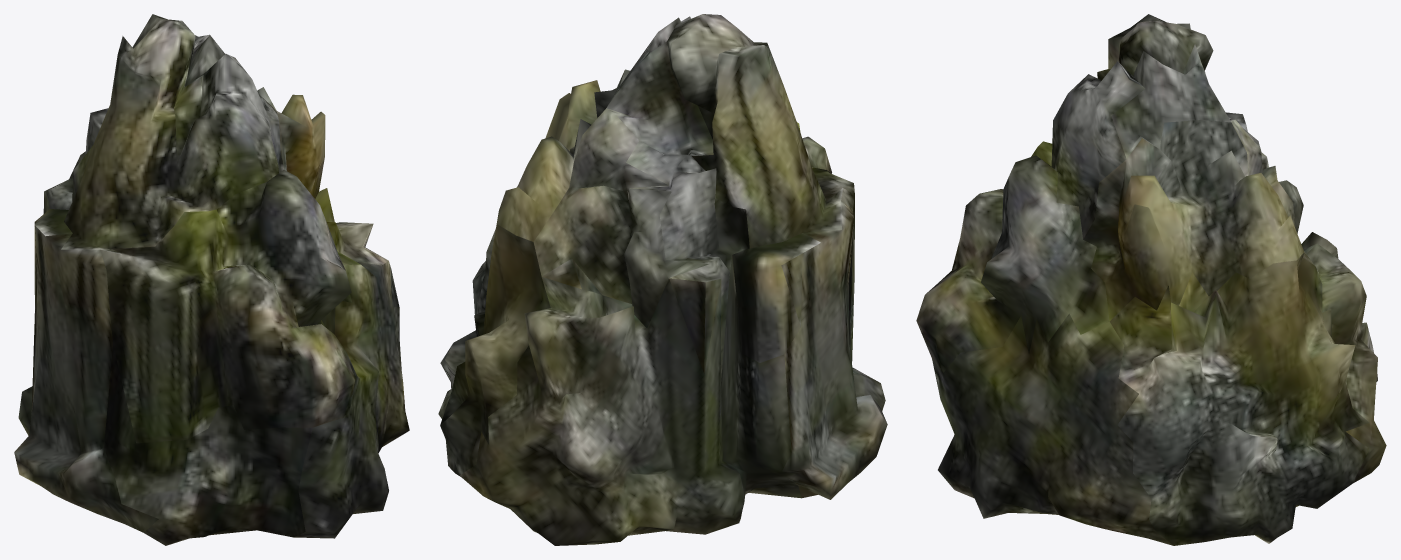
File: crystal-ethics_02.glb
3 views of the same model, side by side, from view 1: azimuth 30°, elevation 25°; view 2: azimuth 150°, elevation 25°; view 3: azimuth 270°, elevation 25° (orthographic). The views are drawn at different scales.
Visible parts, largest first — view 1: mesh_node.002; view 2: mesh_node.002; view 3: mesh_node.002.
Boxes of the visible parts, bbox=[...] form: mesh_node.002: bbox=[14, 14, 409, 545]; mesh_node.002: bbox=[438, 14, 887, 545]; mesh_node.002: bbox=[916, 14, 1386, 545].
Bounding box in the file's own units: 0.2783 × 0.3418 × 0.3242.
1 material, 1 textured.
